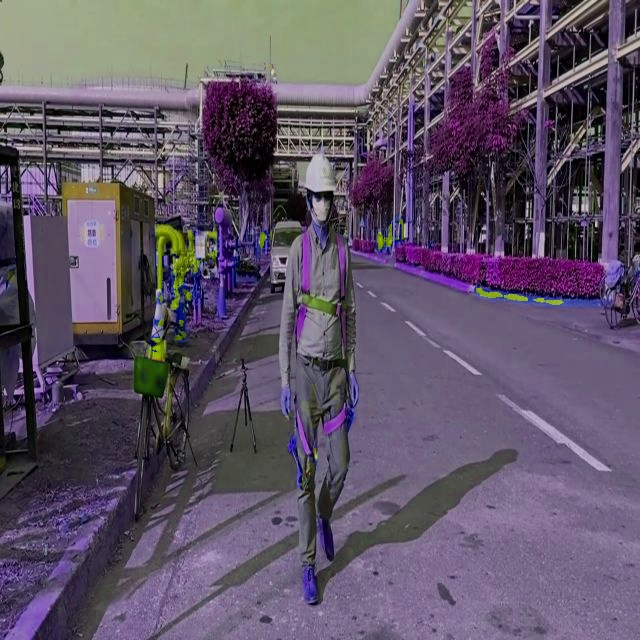safety belt: (286, 236, 367, 455)
